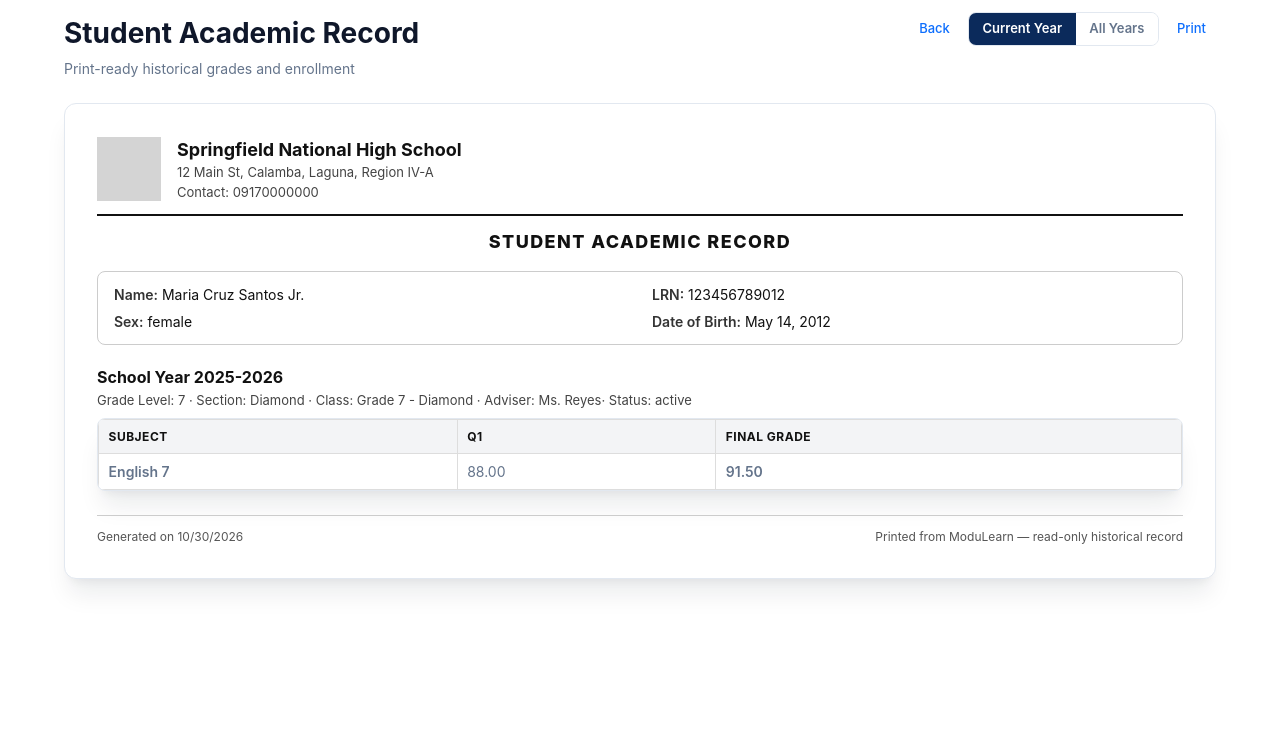
StudentAcademicRecordPage › switches between the current and all-year scopes
This screenshot has width=1280, height=732.
Expected: the heading "School Year 2025-2026" is shown, [97,367,283,387]
Click the button "All Years" at (1117, 29), box [1076,13,1158,45]
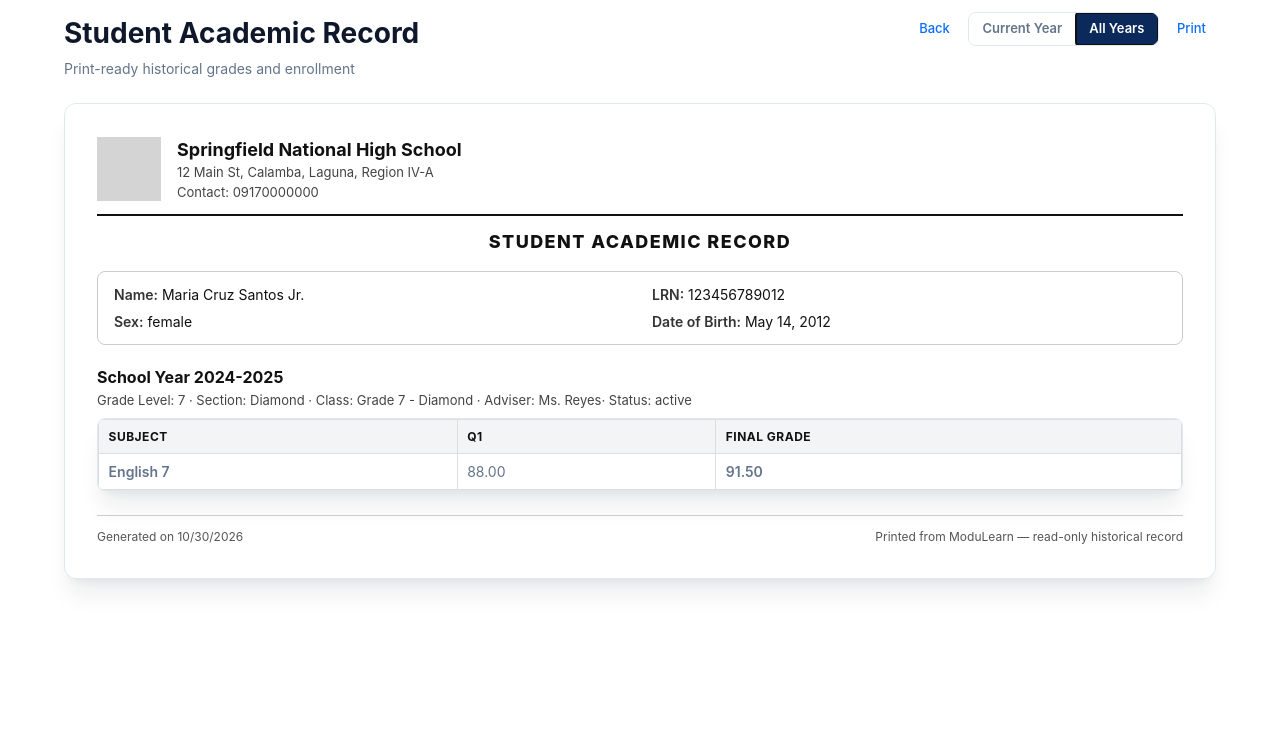
Now the heading "School Year 2024-2025" is shown, box [97,367,283,387]
